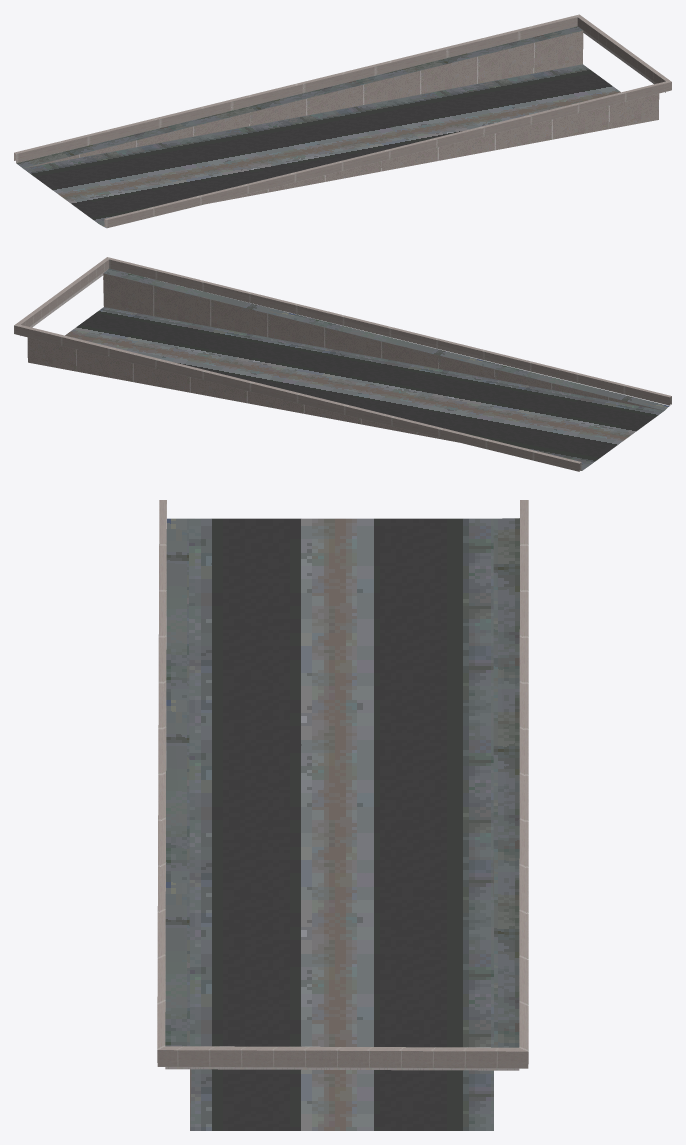
File: lodtun3_las01.obj
The picture shows the model from 3 angles, top to bottom: view 1: azimuth 30°, elevation 25°; view 2: azimuth 150°, elevation 25°; view 3: azimuth 270°, elevation 25°; orthographic projection. The views are drawn at different scales.
Visible parts, largest first — view 1: LODtun3_LAS01; view 2: LODtun3_LAS01; view 3: LODtun3_LAS01.
Boxes of the visible parts, x1,y1,x2,y2 form: LODtun3_LAS01: [14, 14, 671, 228]; LODtun3_LAS01: [14, 257, 671, 471]; LODtun3_LAS01: [157, 500, 528, 1130].
Size of the model in its own units: 131 by 9.45 by 37.15.
Materials: 3 (3 with a texture image).
